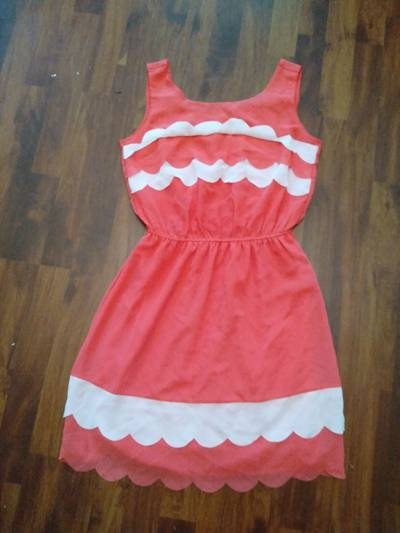Dress: (39, 58, 363, 502)
